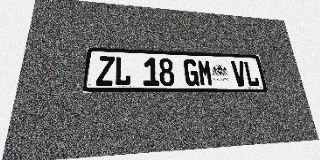1: (143, 57, 159, 86)
8: (159, 58, 175, 86)
G: (183, 59, 200, 86)
L: (114, 56, 131, 86), (243, 61, 260, 86)
M: (197, 59, 214, 86)
V: (231, 61, 248, 86)
Z: (96, 56, 115, 86)
